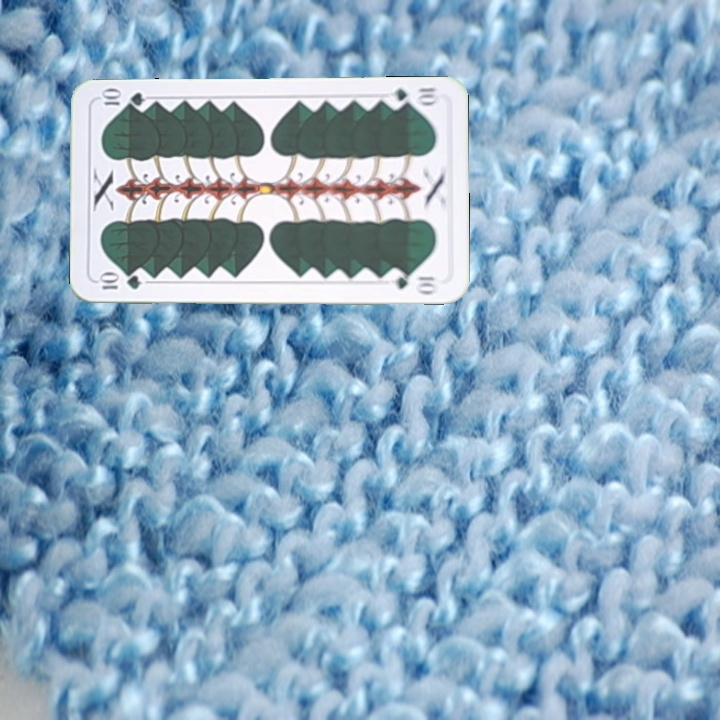G10: (383, 83, 442, 110), (94, 272, 143, 292)
